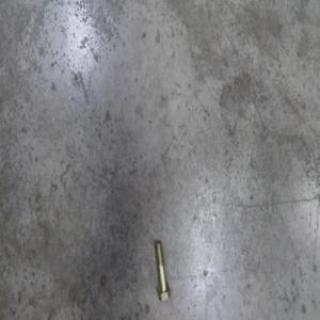Bolttrack_idkeyframe: (152, 239, 171, 300)
